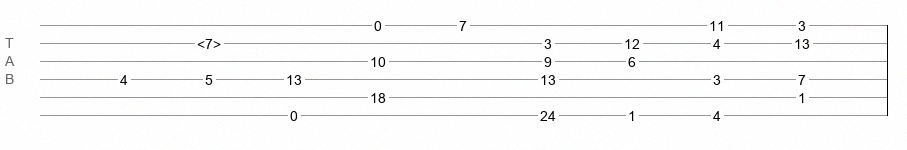0: (290, 108, 298, 118), (374, 18, 382, 28)
1: (628, 108, 636, 118), (798, 90, 806, 100)
10: (370, 54, 386, 64)
11: (709, 18, 725, 28)
12: (624, 36, 640, 46)
13: (286, 72, 302, 82), (540, 72, 556, 82), (794, 36, 810, 46)
18: (370, 90, 386, 100)
24: (540, 108, 556, 118)
3: (544, 36, 552, 46), (713, 72, 721, 82), (798, 18, 806, 28)
4: (120, 72, 128, 82), (713, 36, 721, 46), (713, 108, 721, 118)
5: (205, 72, 213, 82)
6: (628, 54, 636, 64)
7: (459, 18, 467, 28), (798, 72, 806, 82)
9: (544, 54, 552, 64)
harmonic: (197, 36, 221, 46)
